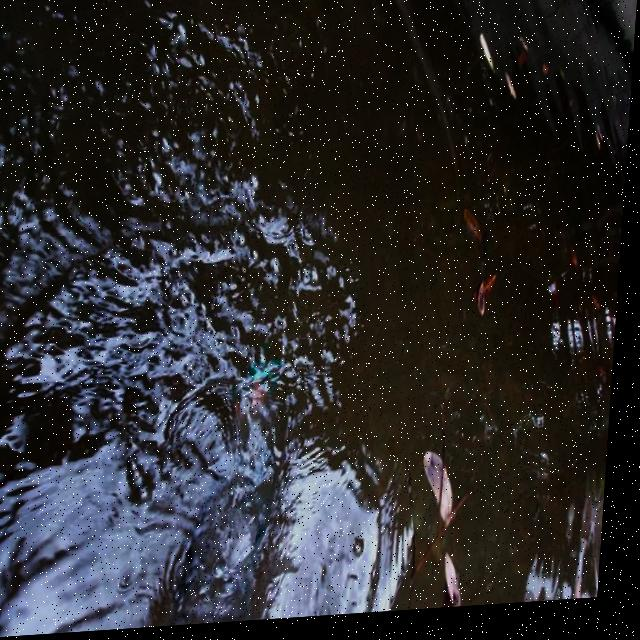leaf: (425, 458, 476, 539), (440, 549, 486, 615), (464, 273, 513, 328)
waterbottle: (140, 348, 313, 631)
